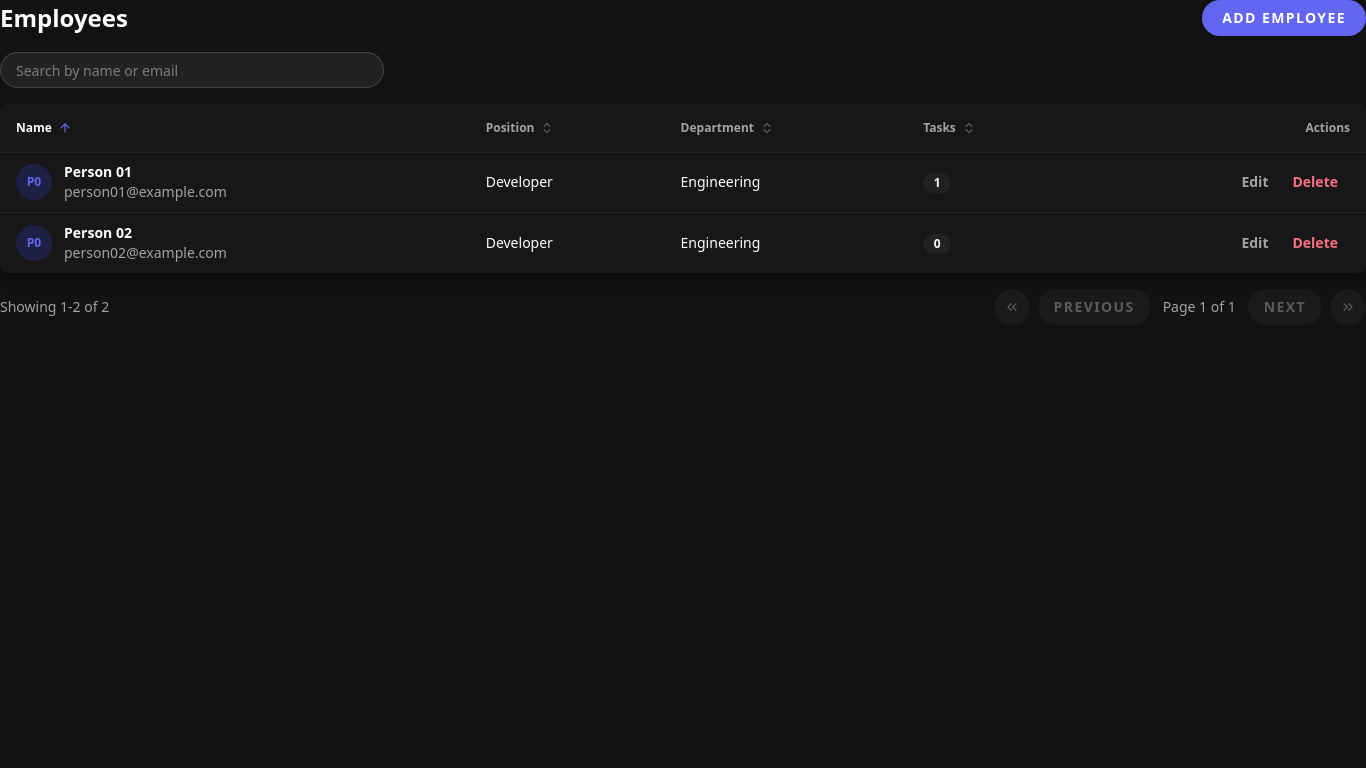
Test: EmployeesPage: deleting › uses the singular for one task and a different message for none
The width and height of the screenshot is (1366, 768).
Click the button with aria-label "Delete Person 01": point(1315, 182) [1280,168,1350,196]
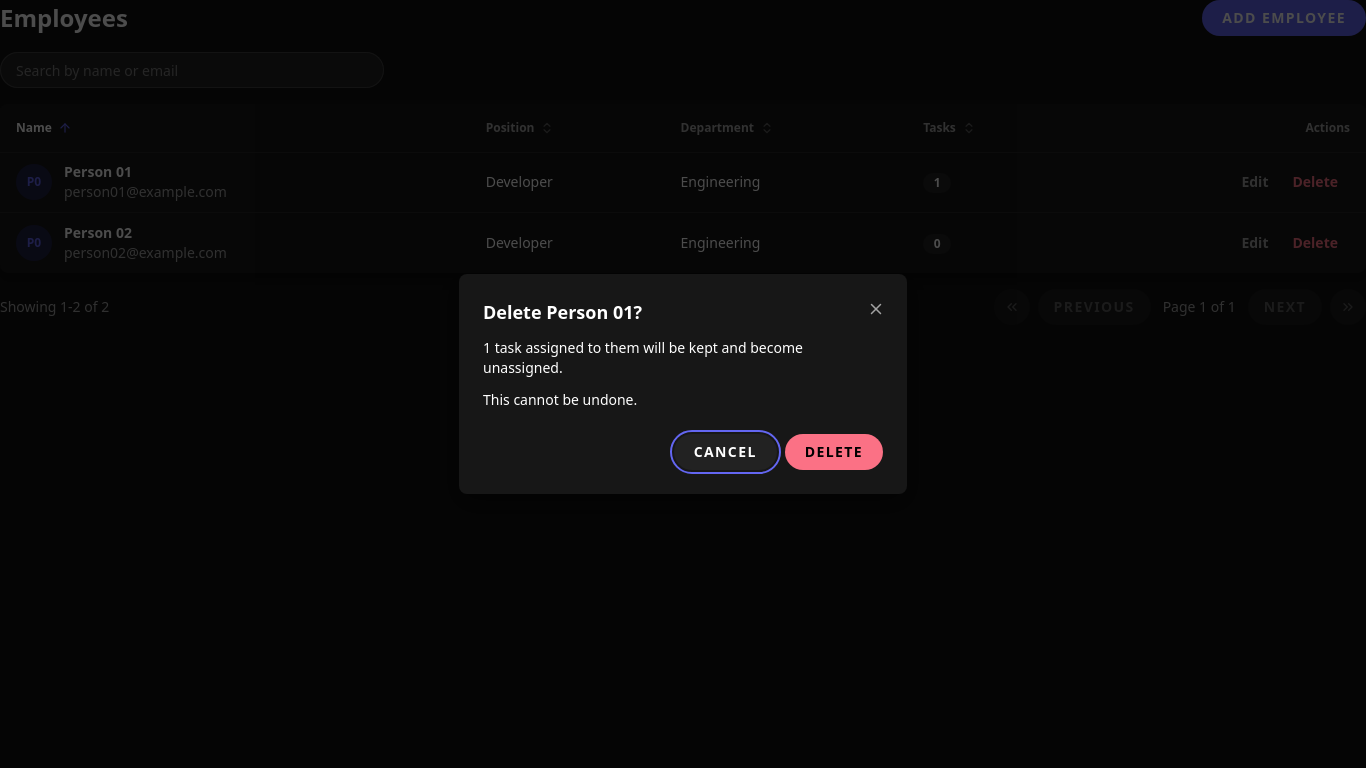
Check: the text "1 task assigned to them will be kept and become unassigned." is shown, box [483,338,803,377]
Click the button "Cancel": point(725, 452) [674,434,777,470]
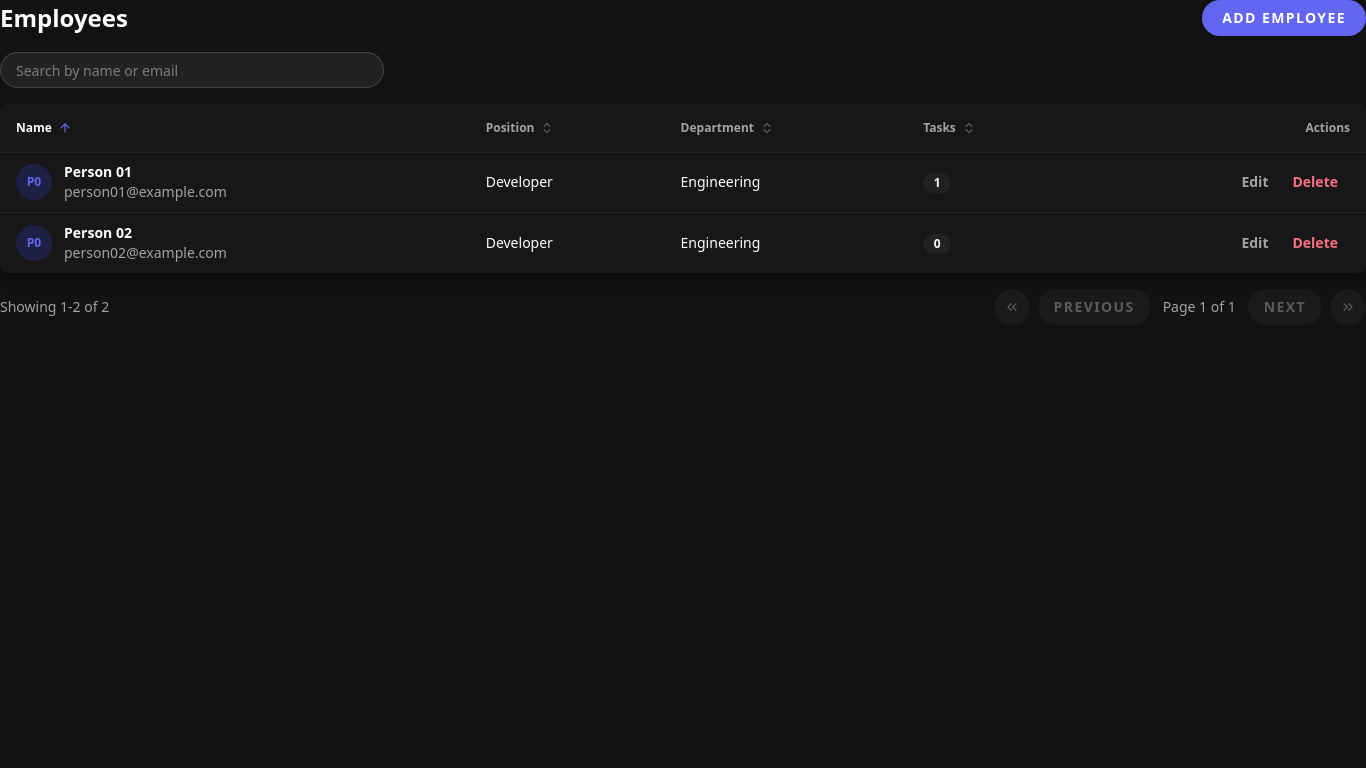
Click the button with aria-label "Delete Person 02": point(1315, 243) [1280,229,1350,257]
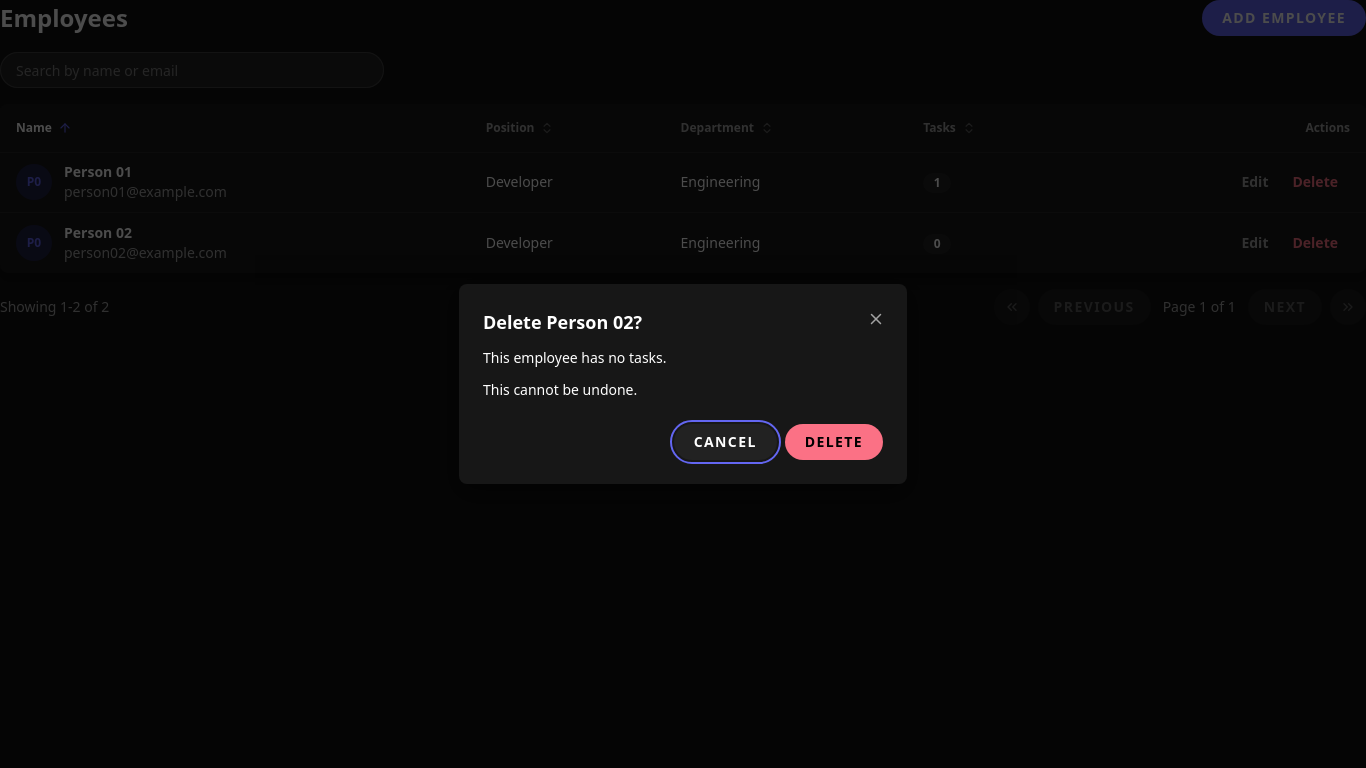
Check: the text "This employee has no tasks." is shown, box [483,348,666,367]
